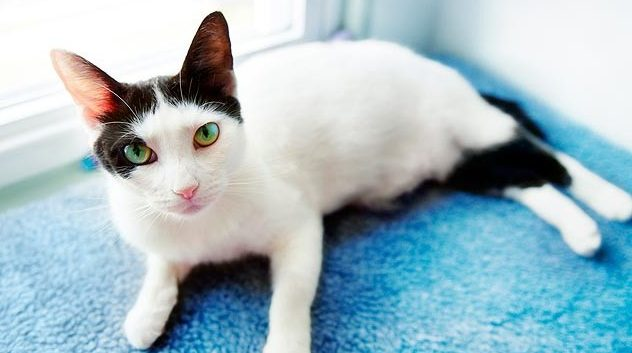cat: (50, 9, 632, 351)
